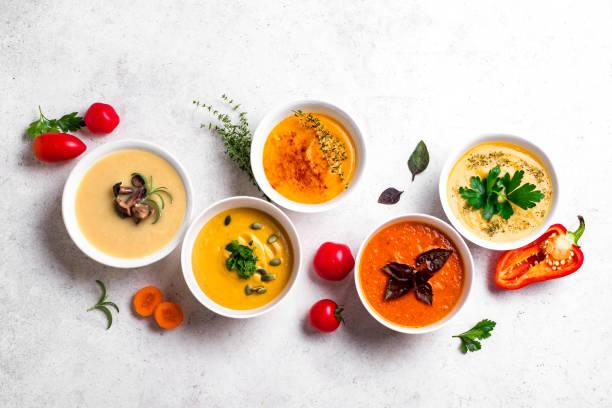Braised Crucian Carp: (60, 139, 189, 268), (353, 214, 475, 335), (180, 197, 301, 318), (439, 134, 558, 252), (249, 99, 365, 213)
